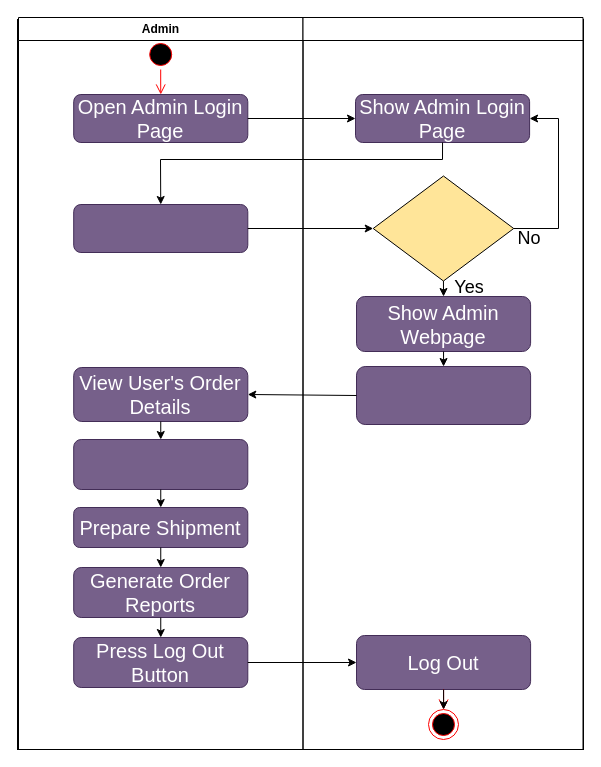
Some shapes in this 601 by 767 pixel diagram are drawn without their labels. The shapes that lost their labels are listed below. From the top down, each one's box as (x1, y1, x2, y2) in pixels, then its label:
(73, 204, 248, 252): Input Admin Credentials
(372, 175, 514, 281): Credentials Valid ?
(302, 16, 583, 750): System
(356, 366, 531, 424): Display User Ordered Details
(73, 438, 248, 490): Validates and manage Order
